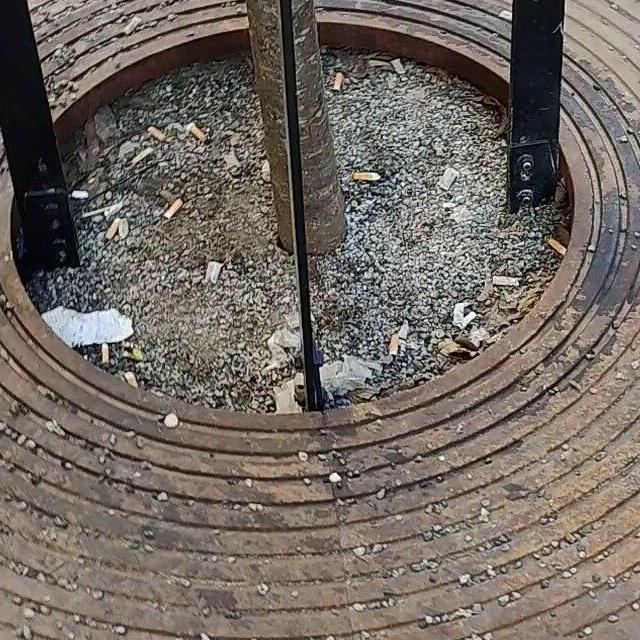Cigarette Butt: (354, 168, 385, 190), (545, 230, 568, 258), (103, 215, 120, 244), (329, 70, 347, 94), (163, 196, 179, 221), (185, 121, 203, 142), (143, 125, 165, 142), (95, 342, 108, 368), (387, 330, 401, 354), (123, 371, 140, 386)
